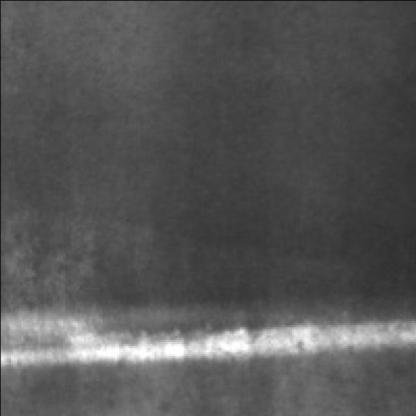scratches: (0, 314, 412, 372)
